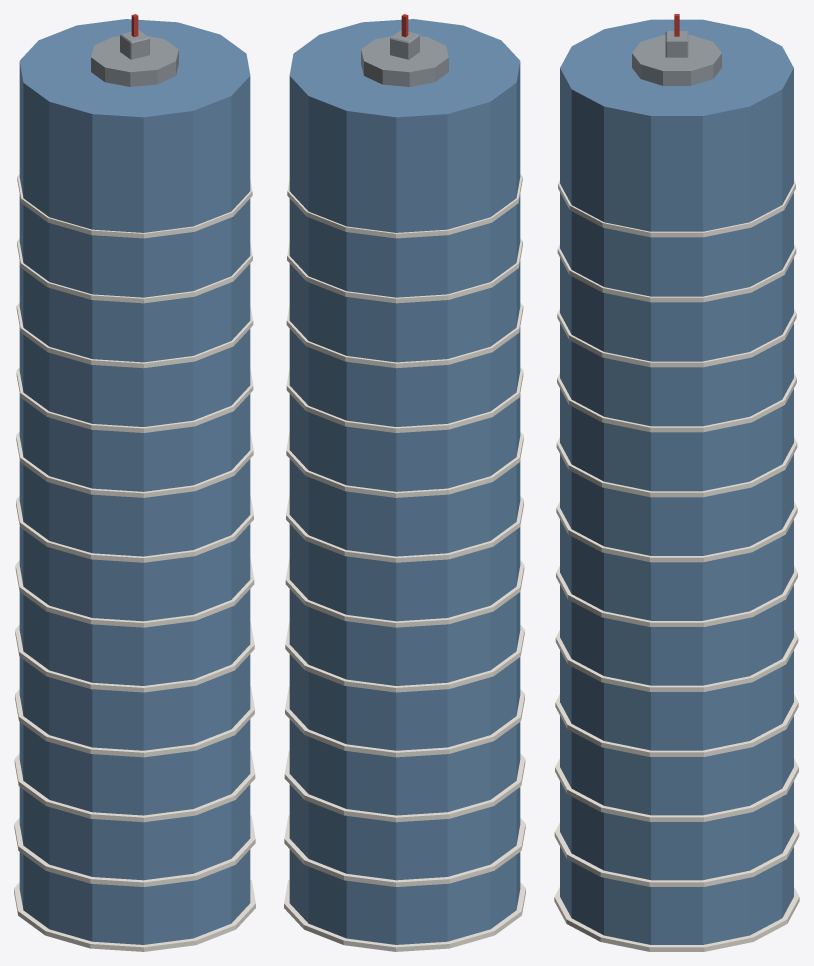
Rendered from tower_slat_h90.glb.
3 views of the same model, side by side, from view 1: azimuth 30°, elevation 25°; view 2: azimuth 150°, elevation 25°; view 3: azimuth 270°, elevation 25° (orthographic).
Parts seen in each view (by area): view 1: core, crown, slat, slat.001, slat.002, slat.003, slat.004, slat.005, slat.006, slat.007, slat.008, slat.009 (+3 smaller); view 2: core, crown, slat, slat.001, slat.002, slat.003, slat.004, slat.005, slat.006, slat.007, slat.008, slat.009 (+3 smaller); view 3: core, crown, slat, slat.001, slat.002, slat.003, slat.004, slat.006, slat.005, slat.007, slat.008, slat.009 (+3 smaller).
Part boxes in pixels (x1=…): core: x1=19, y1=19, x2=250, y2=944; crown: x1=91, y1=36, x2=178, y2=86; slat: x1=14, y1=879, x2=255, y2=951; slat.001: x1=14, y1=815, x2=255, y2=886; slat.002: x1=14, y1=751, x2=255, y2=822; slat.003: x1=15, y1=686, x2=254, y2=757; slat.004: x1=15, y1=622, x2=254, y2=692; slat.005: x1=15, y1=558, x2=254, y2=627; slat.006: x1=16, y1=495, x2=253, y2=562; slat.007: x1=16, y1=432, x2=253, y2=497; slat.008: x1=16, y1=367, x2=253, y2=432; slat.009: x1=16, y1=303, x2=253, y2=368; core: x1=289, y1=19, x2=520, y2=944; crown: x1=361, y1=36, x2=448, y2=86; slat: x1=284, y1=879, x2=525, y2=951; slat.001: x1=284, y1=815, x2=525, y2=886; slat.002: x1=284, y1=751, x2=525, y2=822; slat.003: x1=285, y1=686, x2=524, y2=757; slat.004: x1=285, y1=622, x2=524, y2=692; slat.005: x1=285, y1=558, x2=524, y2=627; slat.006: x1=286, y1=495, x2=523, y2=562; slat.007: x1=286, y1=432, x2=523, y2=497; slat.008: x1=286, y1=367, x2=523, y2=432; slat.009: x1=286, y1=303, x2=523, y2=368; core: x1=560, y1=19, x2=793, y2=944; crown: x1=632, y1=35, x2=721, y2=85; slat: x1=554, y1=887, x2=799, y2=951; slat.001: x1=554, y1=823, x2=799, y2=886; slat.002: x1=555, y1=758, x2=798, y2=821; slat.003: x1=555, y1=694, x2=798, y2=756; slat.004: x1=555, y1=630, x2=798, y2=691; slat.006: x1=556, y1=501, x2=797, y2=562; slat.005: x1=556, y1=566, x2=797, y2=626; slat.007: x1=556, y1=437, x2=797, y2=497; slat.008: x1=557, y1=373, x2=796, y2=432; slat.009: x1=557, y1=309, x2=796, y2=367.
Bounding box in the file's own units: 23.38 × 95.7 × 23.98.
